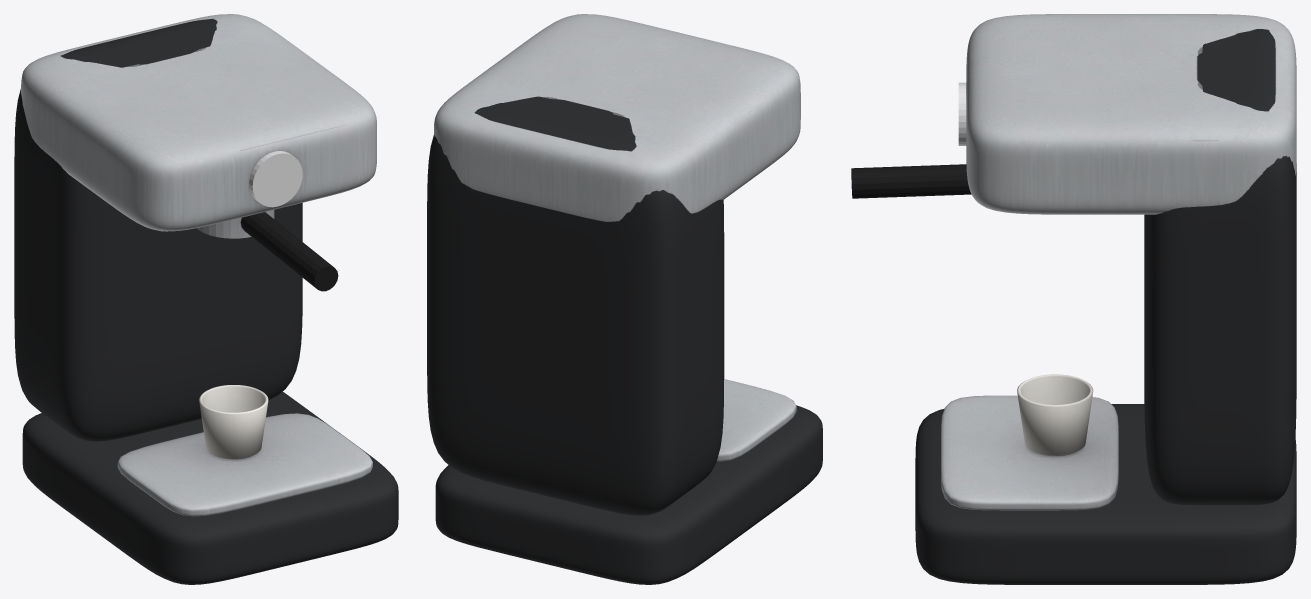
The model's file is espresso-steel.glb.
3 views of the same model, side by side, from view 1: azimuth 30°, elevation 25°; view 2: azimuth 150°, elevation 25°; view 3: azimuth 270°, elevation 25° (orthographic). The views are drawn at different scales.
Visible parts, largest first — view 1: machine_body, steel, ceramic_white, bakelite, chrome; view 2: machine_body, steel; view 3: machine_body, steel, ceramic_white, bakelite, chrome.
Part boxes in pixels (x1,y1,x2,y2): machine_body: [14, 18, 398, 584]; steel: [21, 14, 376, 516]; ceramic_white: [199, 385, 268, 459]; bakelite: [240, 212, 338, 291]; chrome: [249, 151, 302, 207]; machine_body: [427, 96, 822, 584]; steel: [434, 14, 800, 461]; machine_body: [915, 29, 1296, 584]; steel: [941, 14, 1296, 510]; ceramic_white: [1017, 374, 1093, 456]; bakelite: [851, 164, 971, 198]; chrome: [958, 82, 966, 145].
Size of the model in its own units: 0.24 by 0.4 by 0.3505.
5 materials, 2 textured.
